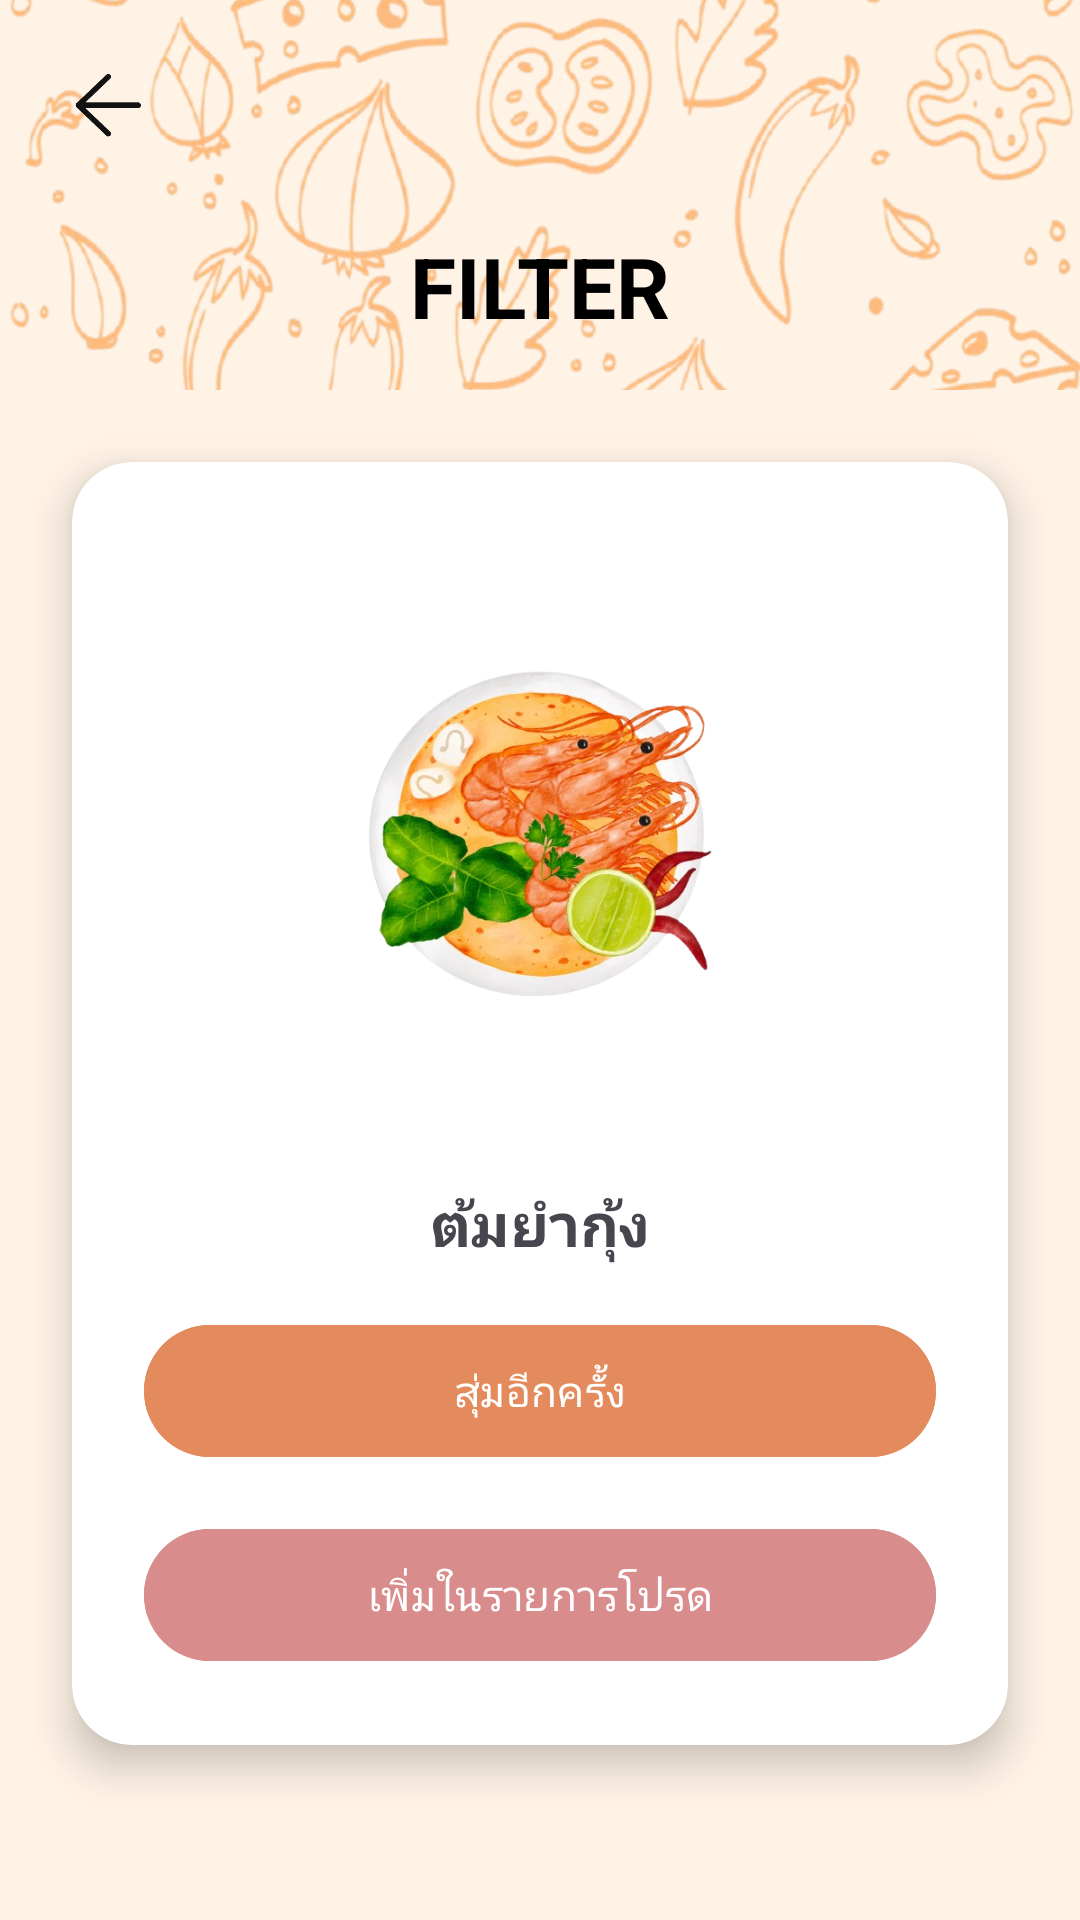

Screen size 1080x1920. Icon name, then its box in pixels as (x1, y1, x2, y2):
back: (48, 48, 168, 168)
food: (369, 672, 711, 995)
